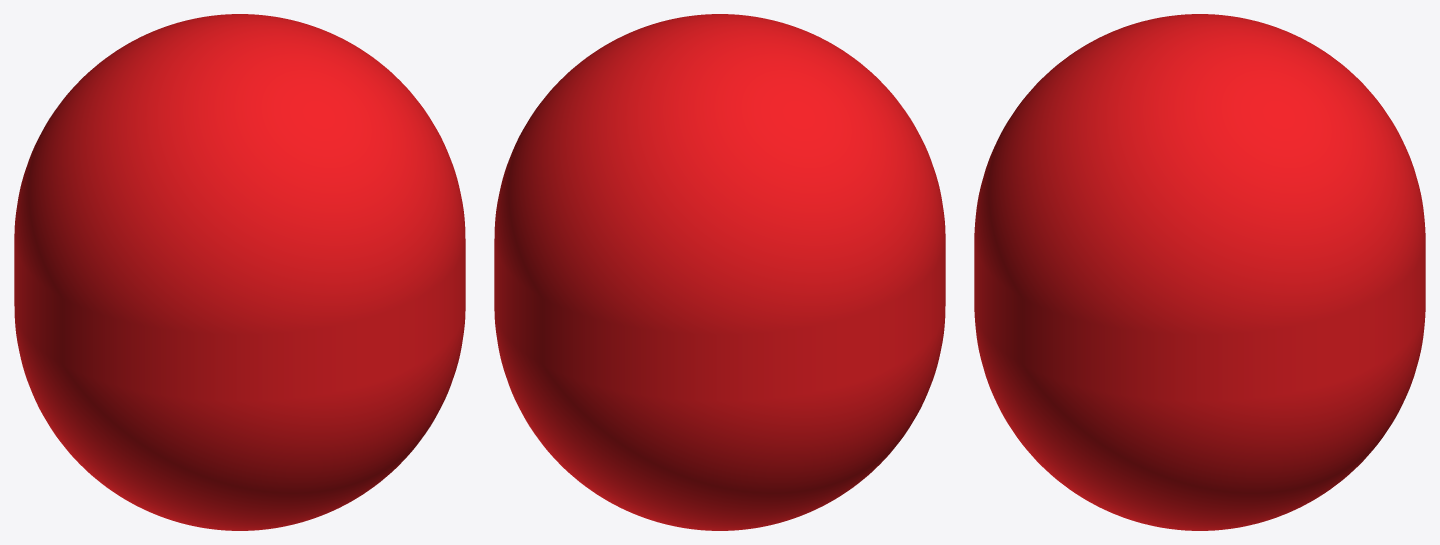
File: Red bullet.fbx
3 renders of one model, left to right at view 1: azimuth 30°, elevation 25°; view 2: azimuth 150°, elevation 25°; view 3: azimuth 270°, elevation 25°, orthographic.
Parts seen in each view (by area): view 1: root; view 2: root; view 3: root.
Part boxes in pixels (<box>): root: <box>14,14,465,530</box>; root: <box>494,14,945,530</box>; root: <box>974,14,1425,530</box>.
Size of the model in its own units: 0.1399 by 0.1624 by 0.1399.
Materials: 1 (1 with a texture image).
